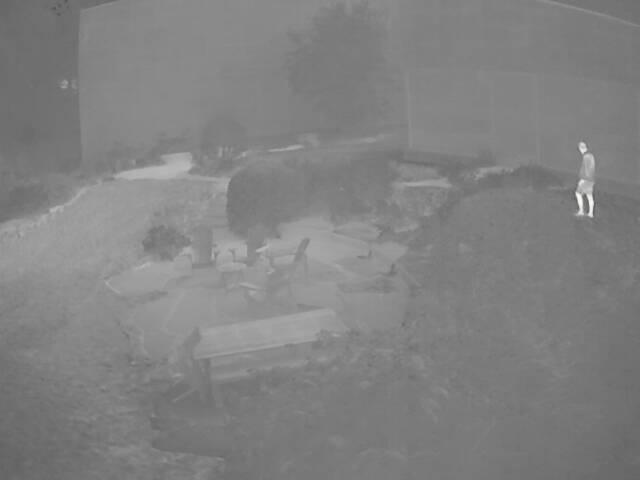person: (574, 141, 597, 218)
